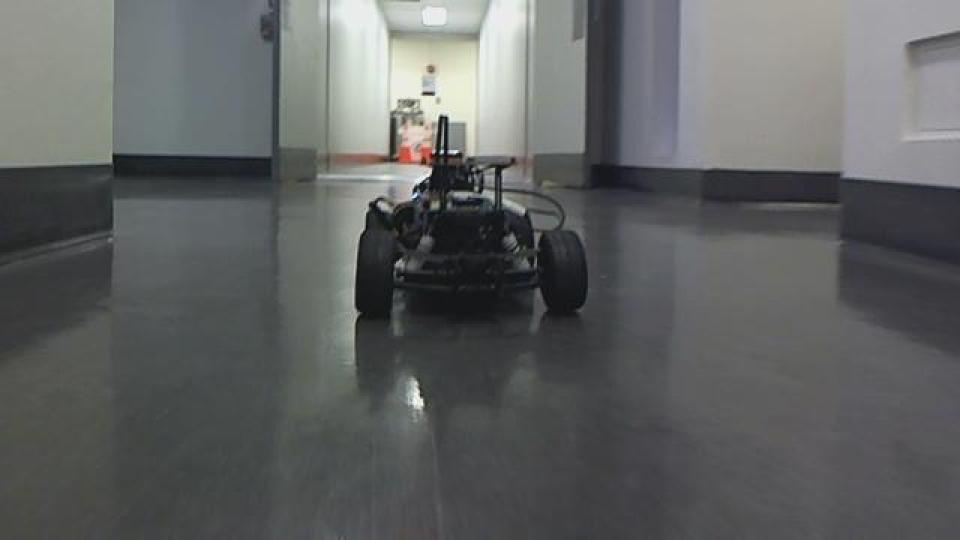car: (349, 112, 591, 322)
